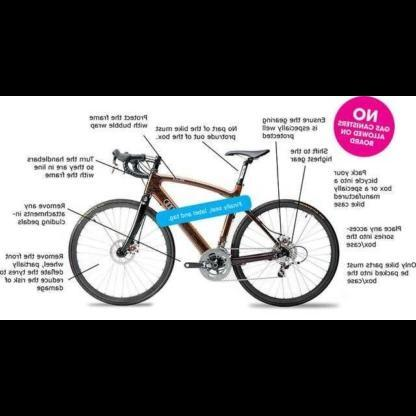Bicycle: (64, 143, 342, 318)
